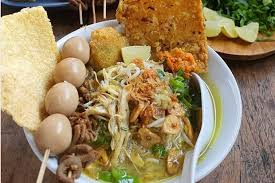soto: (2, 1, 254, 183)
